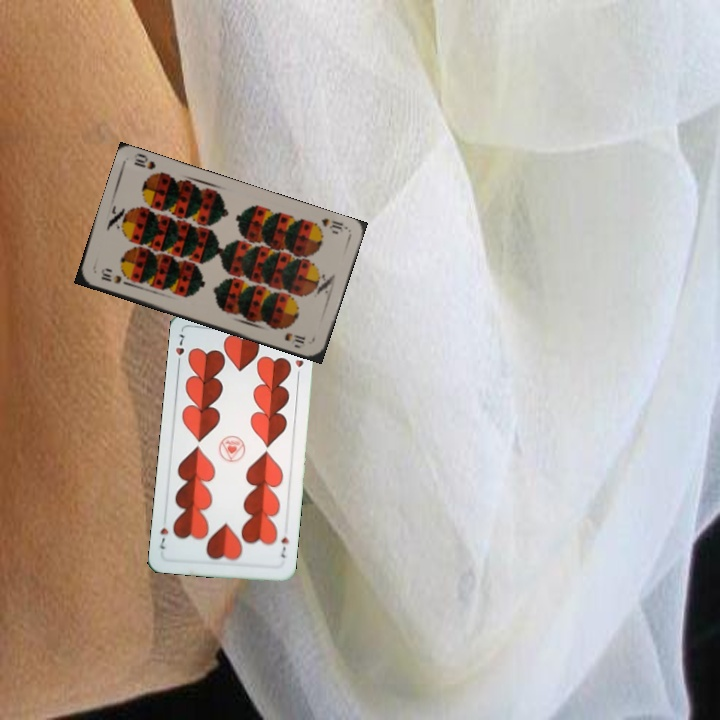H7: (171, 330, 187, 369), (277, 533, 291, 560)
S10: (97, 266, 132, 288), (317, 214, 349, 237)
